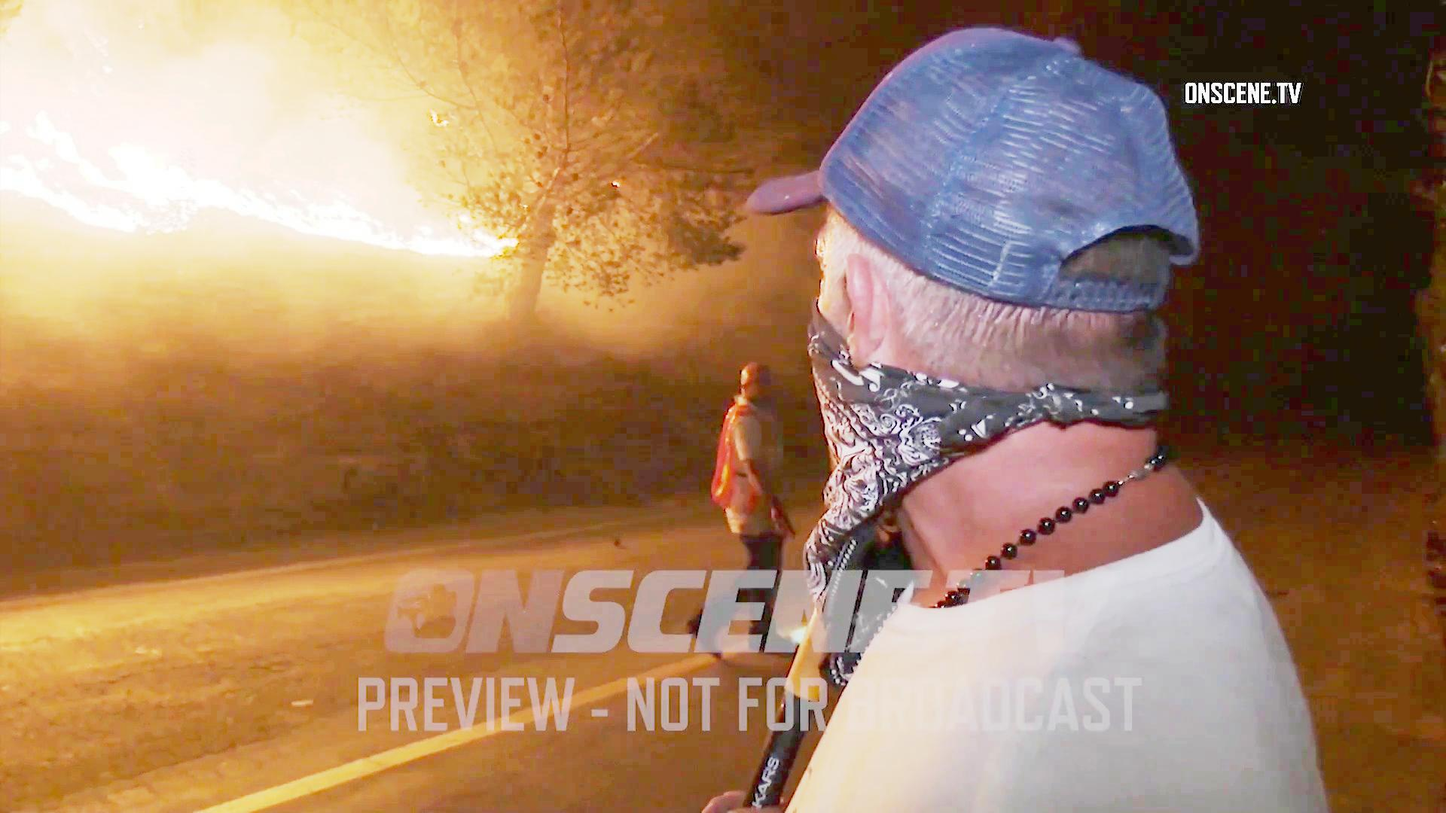fire: (0, 116, 224, 228)
smoke: (0, 0, 230, 102)
